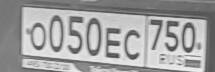license-plateSW: (19, 3, 208, 72)
